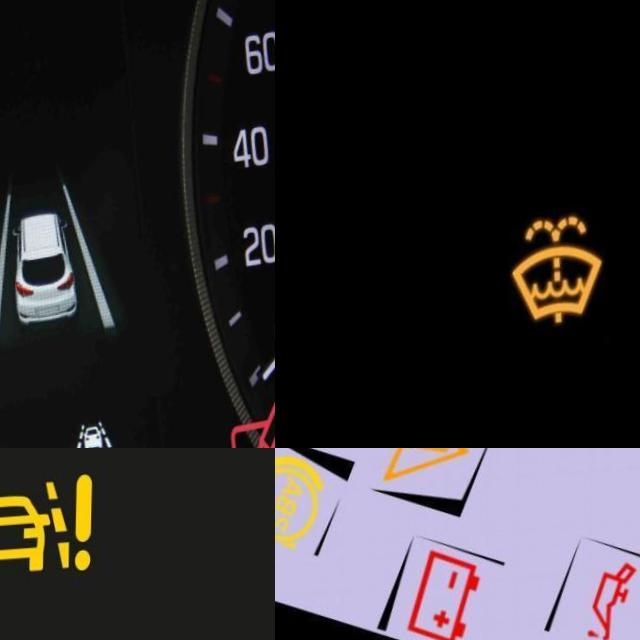Washer Fluid: (509, 220, 607, 334)
